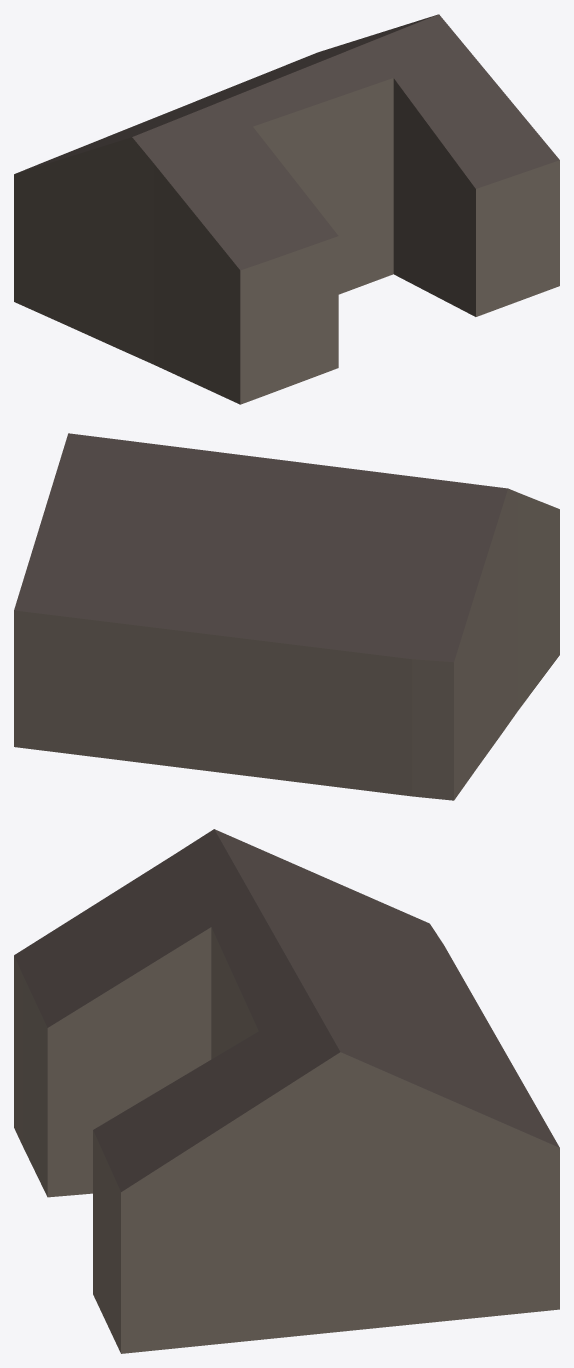
3 views of the same model, one above another, from view 1: azimuth 30°, elevation 25°; view 2: azimuth 150°, elevation 25°; view 3: azimuth 270°, elevation 25° (orthographic). The views are drawn at different scales.
Parts seen in each view (by area): view 1: HP-w1198843249; view 2: HP-w1198843249; view 3: HP-w1198843249.
Part boxes in pixels (x1=…): HP-w1198843249: x1=14, y1=14, x2=559, y2=404; HP-w1198843249: x1=14, y1=433, x2=559, y2=800; HP-w1198843249: x1=14, y1=829, x2=559, y2=1353.
Size of the model in its own units: 21.23 by 10.38 by 18.37.
